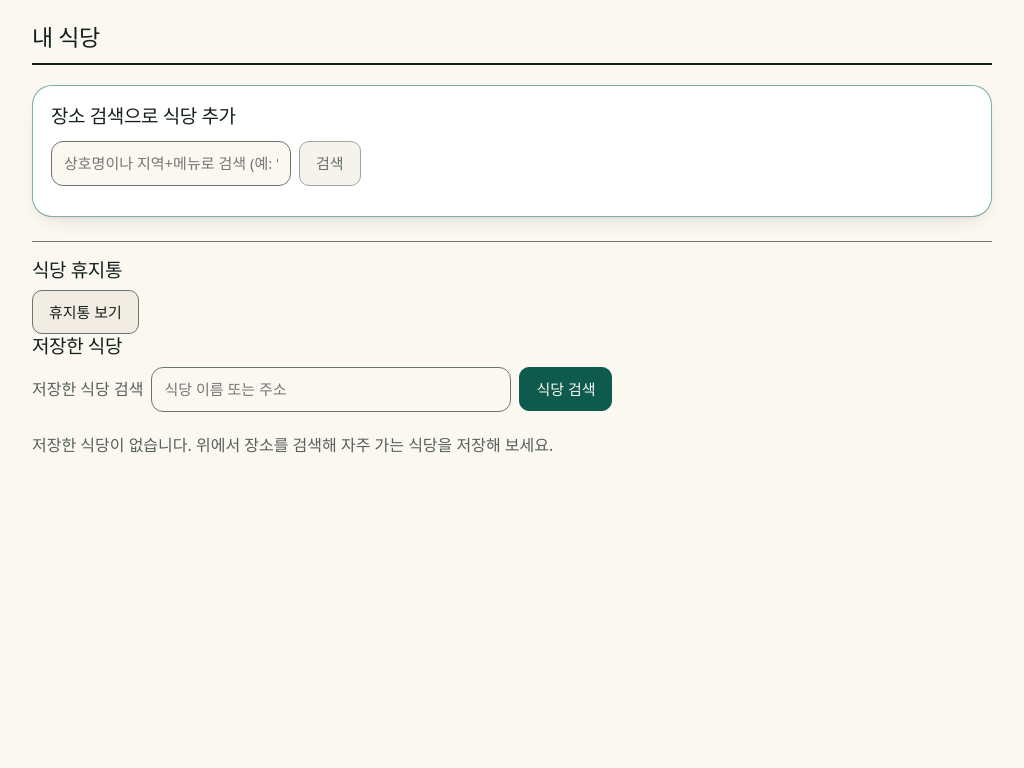
Test: 검색과 목록의 이름 › 검색 결과의 저장 버튼이 어느 가게를 저장하는지 밝힌다
Type "중구" into the field named "장소 검색어" at (171, 163), box top-left (51, 141), bottom-right (291, 186)
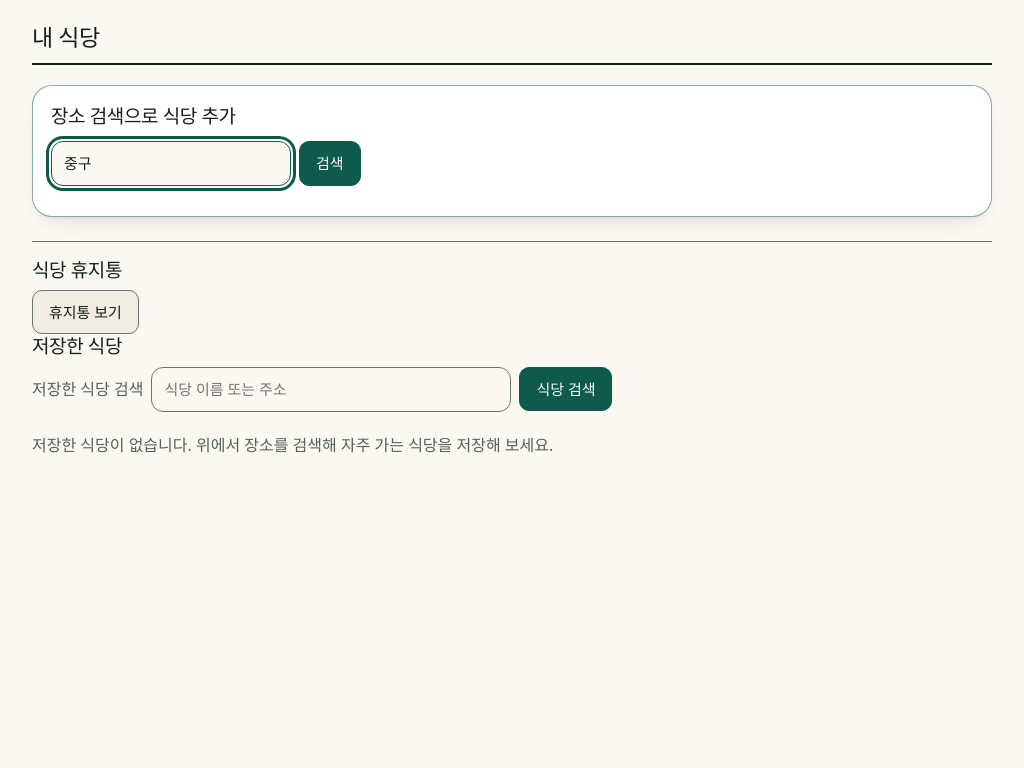
Click the button "검색" at (330, 163), box top-left (299, 141), bottom-right (361, 186)
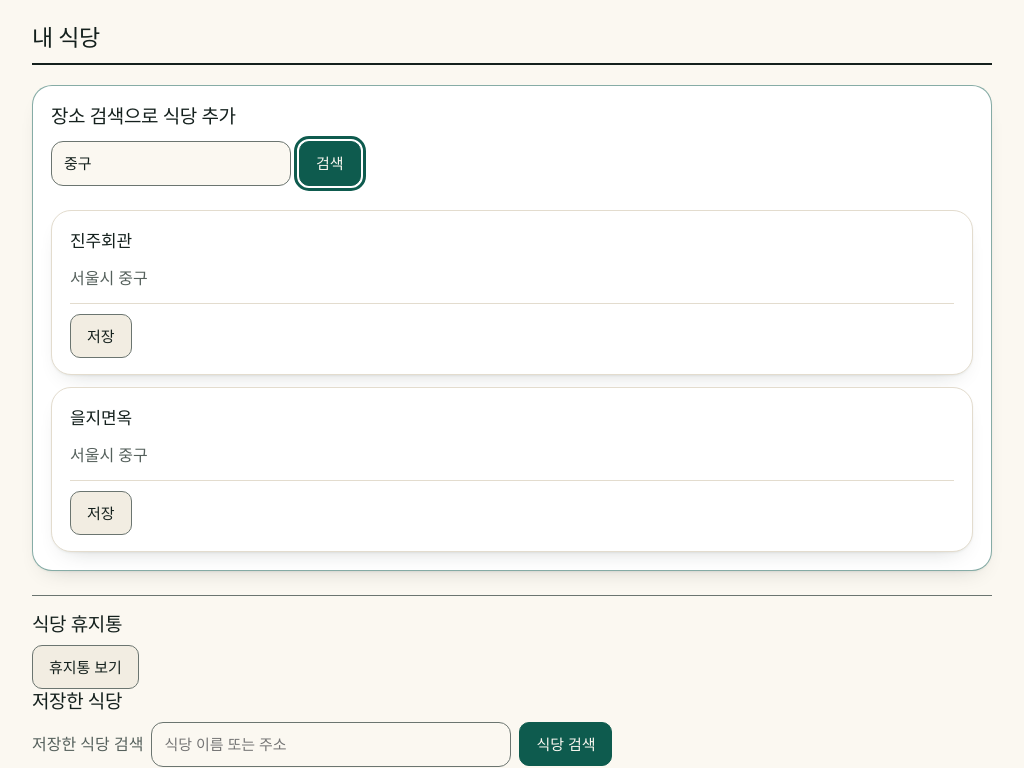
Now the button with aria-label "진주회관 저장" is shown, box top-left (70, 314), bottom-right (132, 358)
Now the button with aria-label "을지면옥 저장" is shown, box top-left (70, 492), bottom-right (132, 536)
